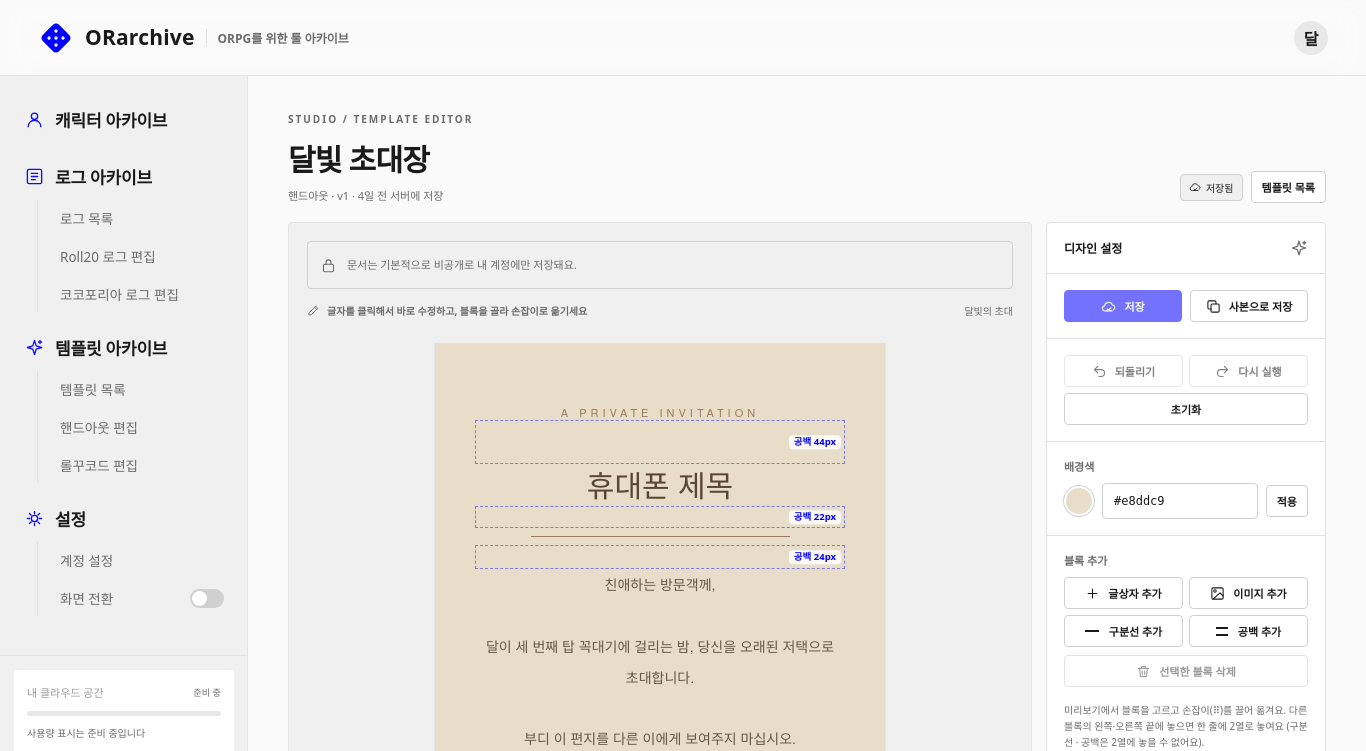
Test: 핸드아웃 스튜디오 — 캔버스 직접 편집 › 충돌 → "서버 버전 불러오기" 를 고르면 캔버스 글자도 서버 값으로 바뀐다
This screenshot has width=1366, height=751.
Clear the field labelled "휴대폰 제목": coordinates (660, 485) [587,463,733,506]
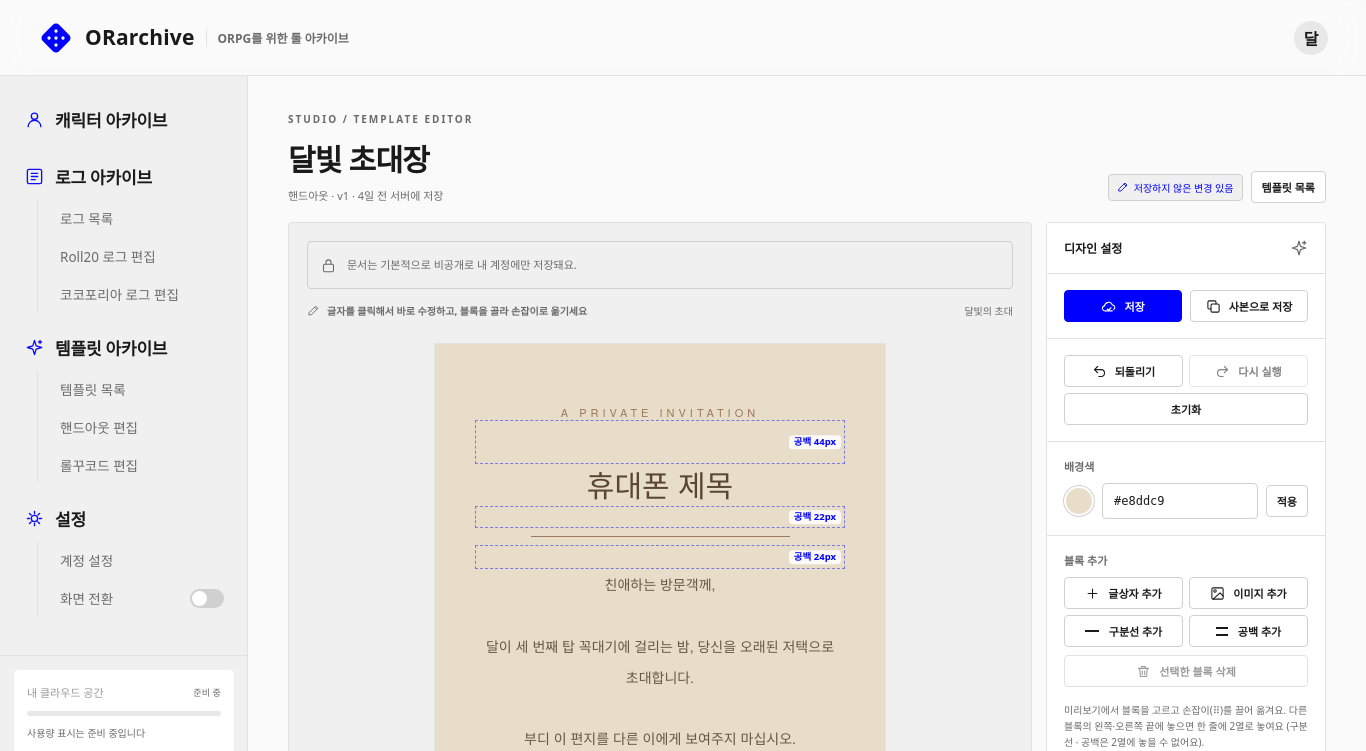
Click the button "저장": coordinates (1123, 306) [1064,290,1182,322]
Wait 800 ms
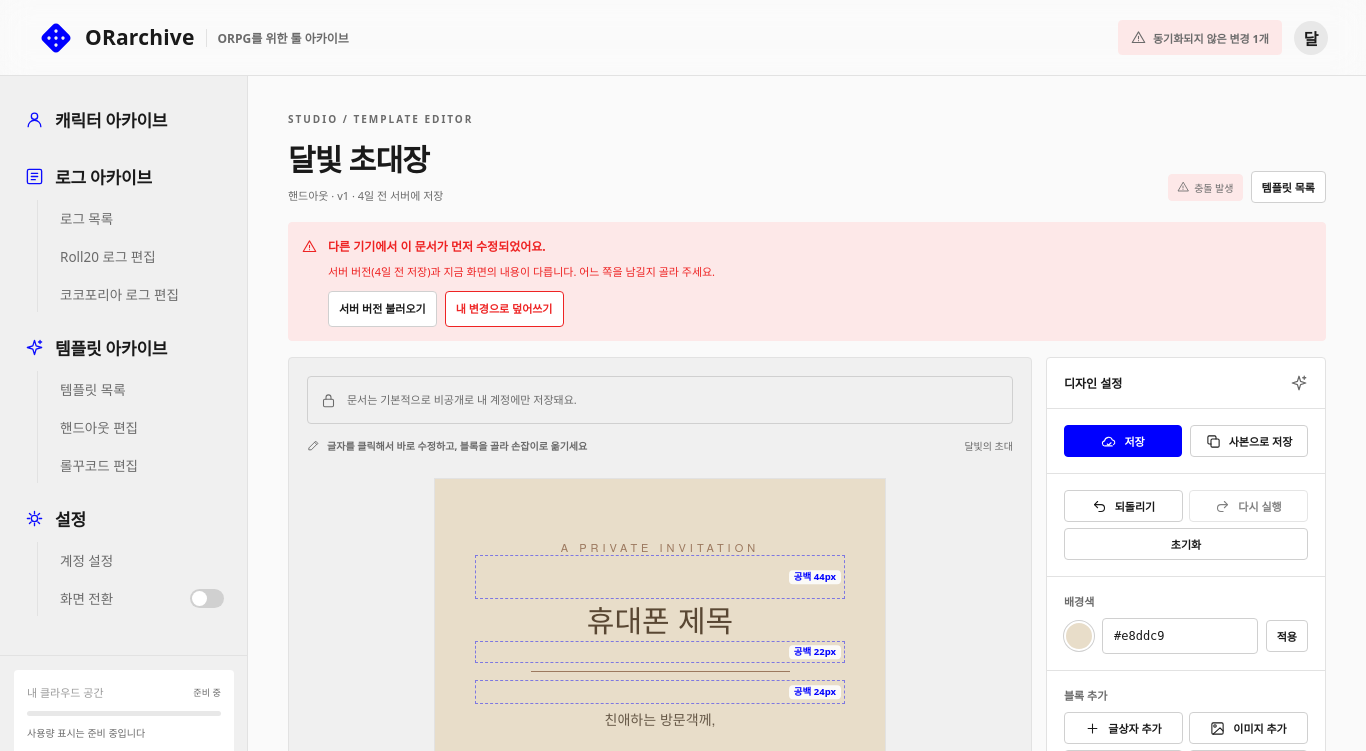
Result: the message "충돌 발생" is shown at [1168,174,1242,200]
Result: the message that starts with "다른 기기에서 이 문서가 먼저 수정되었어요." is shown at [328,238,546,255]
Click the button "서버 버전 불러오기": coordinates (382, 309) [328,291,437,327]
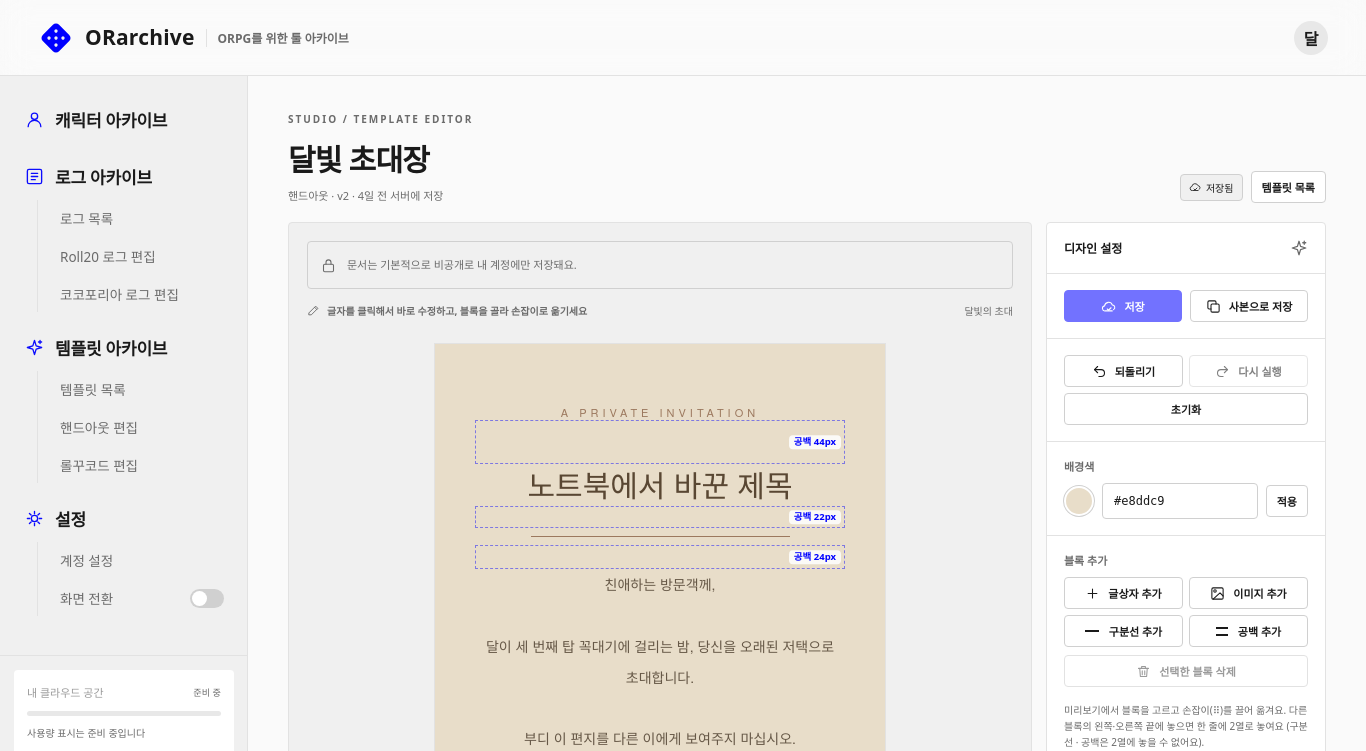
Result: the message "저장됨" is shown at [1180,174,1242,200]
